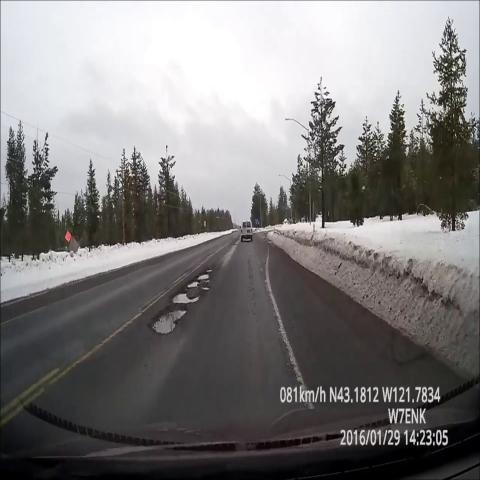pothole: (147, 306, 190, 340), (166, 289, 200, 310), (196, 265, 215, 285), (195, 283, 214, 299), (187, 275, 200, 292)
